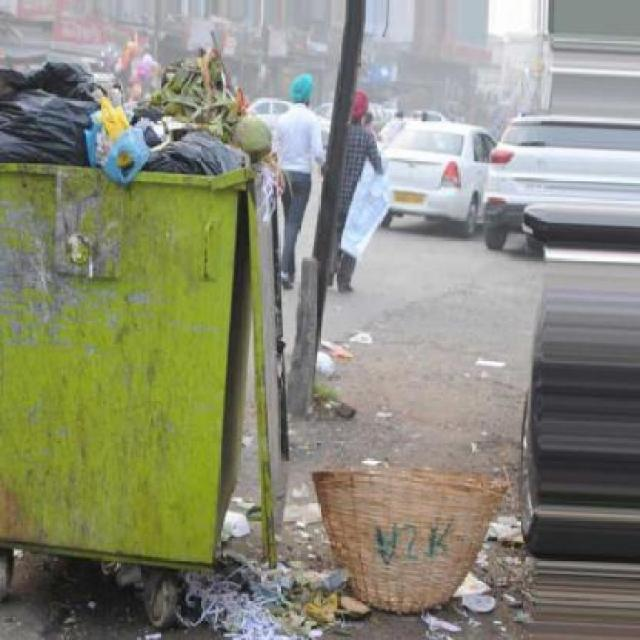garbage: (194, 440, 533, 639), (0, 30, 291, 226), (312, 331, 383, 385), (473, 351, 516, 380)
